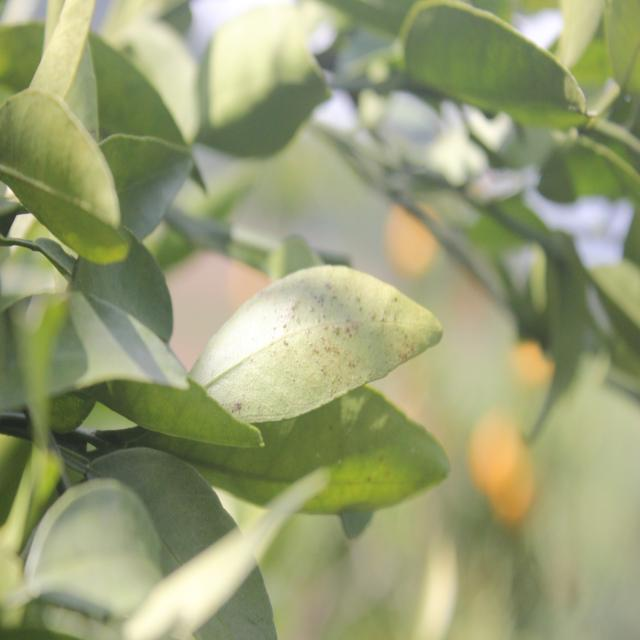melanose: (180, 264, 437, 406)
